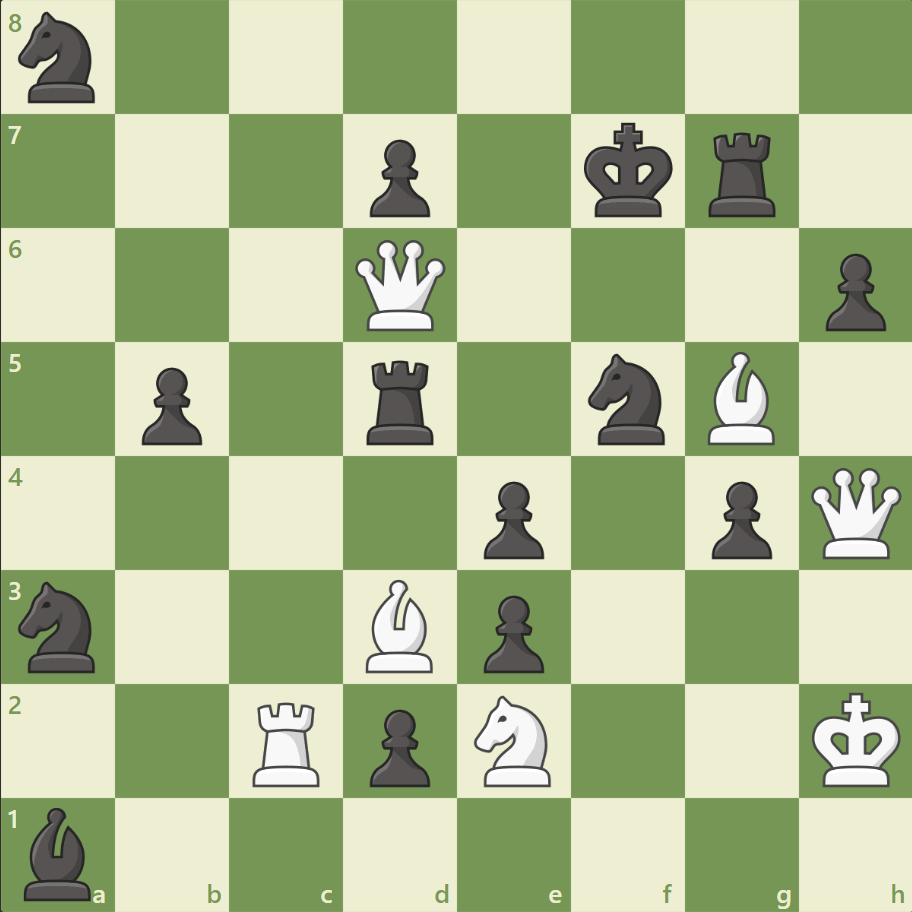B: (698, 347, 782, 449), (358, 574, 442, 676)
K: (806, 685, 906, 793)
N: (465, 688, 562, 791)
Q: (351, 236, 450, 335), (805, 463, 904, 562)
R: (246, 693, 329, 790)
b: (17, 801, 101, 904)
k: (579, 117, 679, 225)
n: (11, 7, 108, 110), (579, 348, 676, 450), (11, 575, 108, 677)
p: (133, 359, 208, 450), (474, 473, 549, 564), (701, 473, 776, 564), (474, 586, 549, 677), (361, 132, 435, 223), (815, 246, 889, 337), (361, 700, 435, 791)
r: (700, 125, 783, 222), (360, 352, 442, 449)
